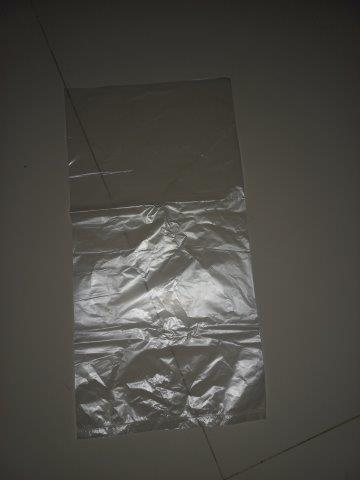plastik: (64, 75, 268, 440)
